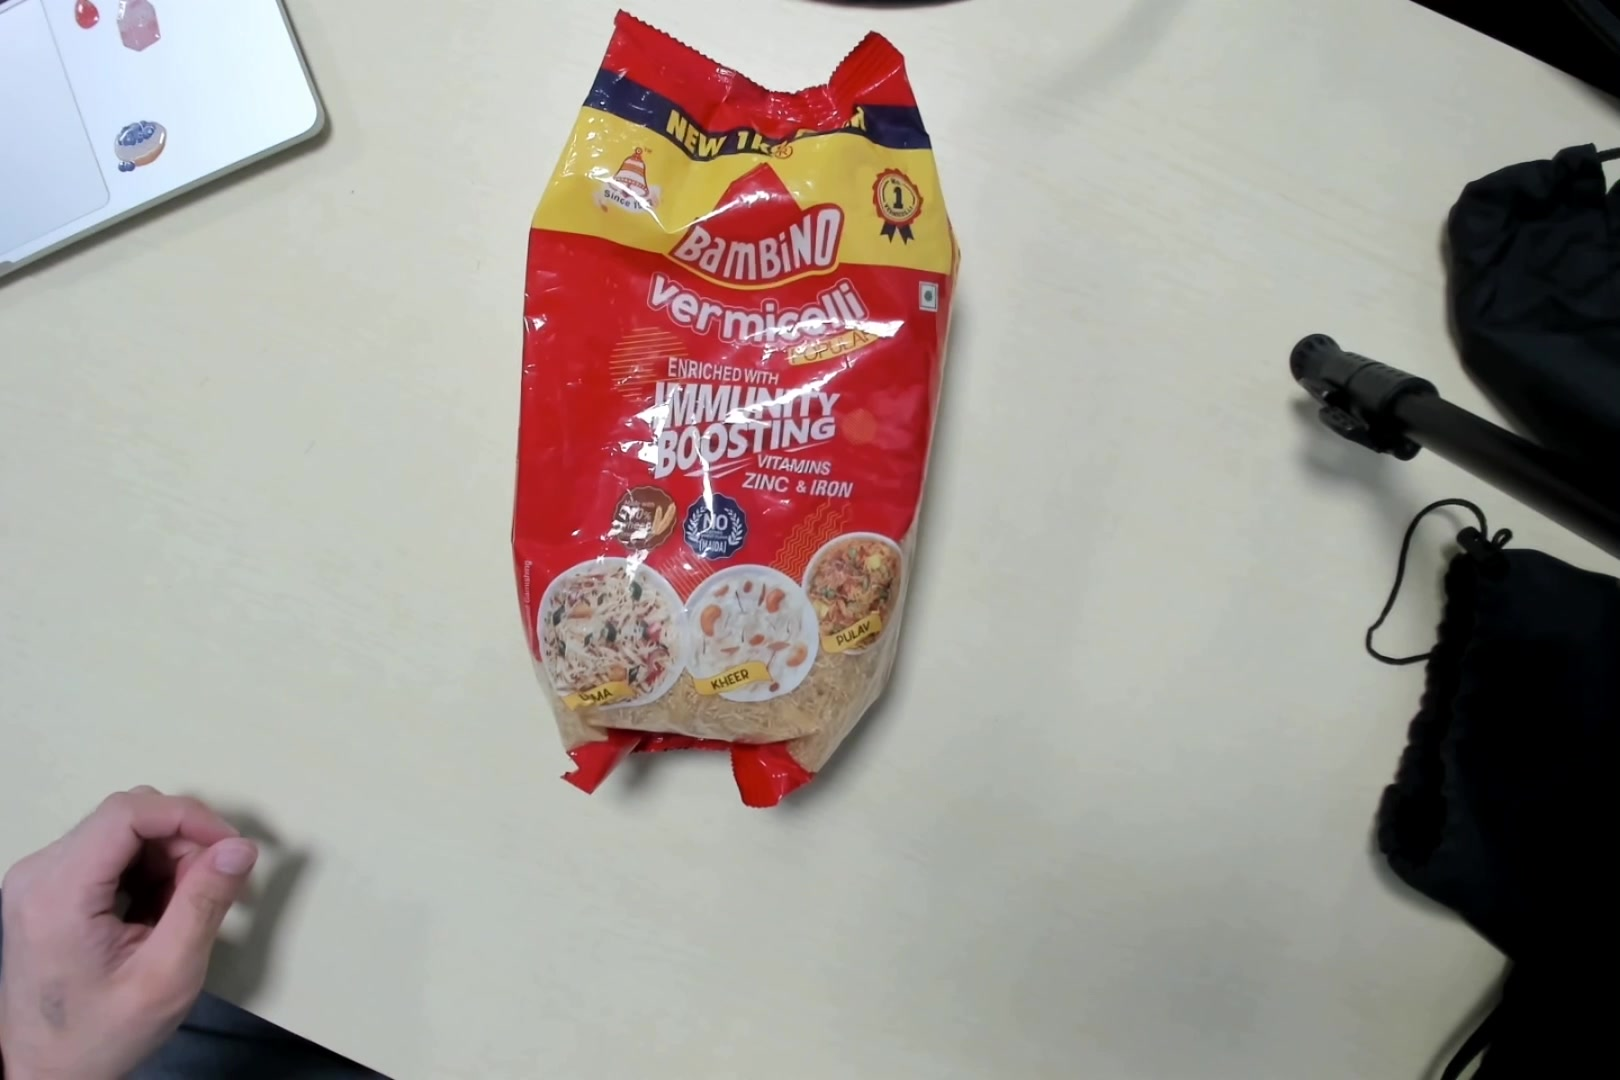OtherNoodles_900-999g_NonHalal_NonHealthy: (534, 27, 932, 803)
